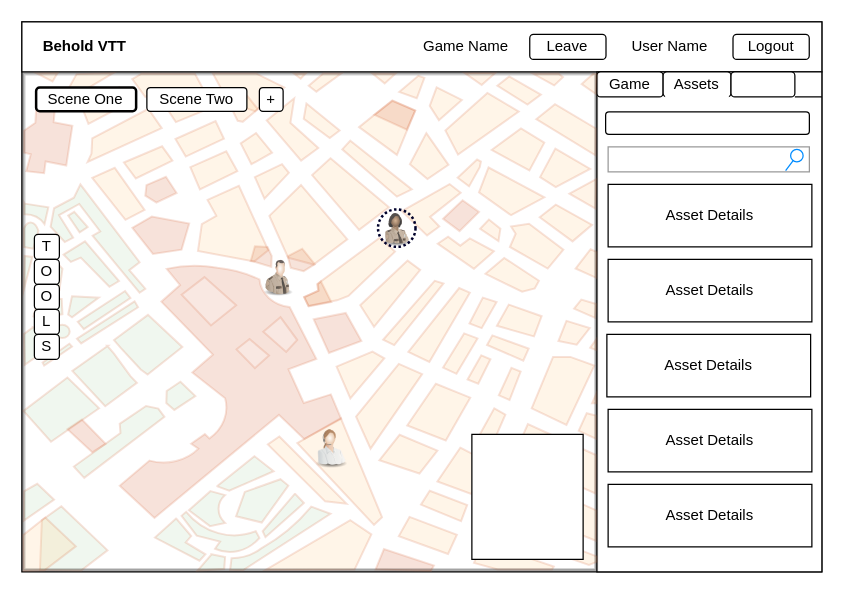
Image size: 845x594. Some labels were removed from this diagram. Here are the shapes that lost their labels. From the top down, the centre of each, then its label:
point 762,84: Scene
point 706,122: Add Asset
point 708,159: Search
point 527,496: Selected Piece Properties
